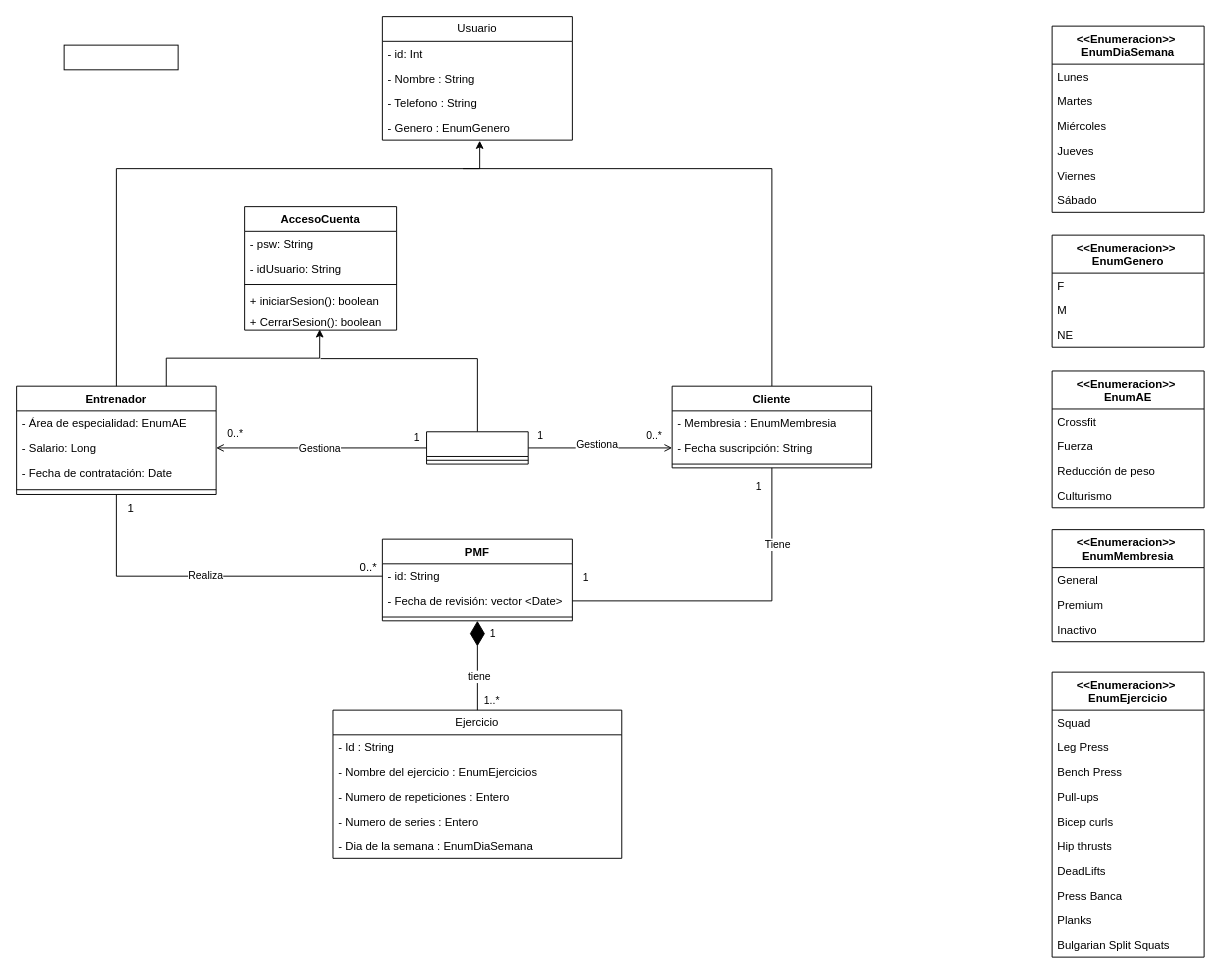
Image size: 1221x977. Some labels were removed from this diagram. Here are the shapes that lost their labels. From the top down, the centre of each, then its label:
At point (120, 57): "ING DEL SOFTWARE".
At point (477, 447): "Administrador".
